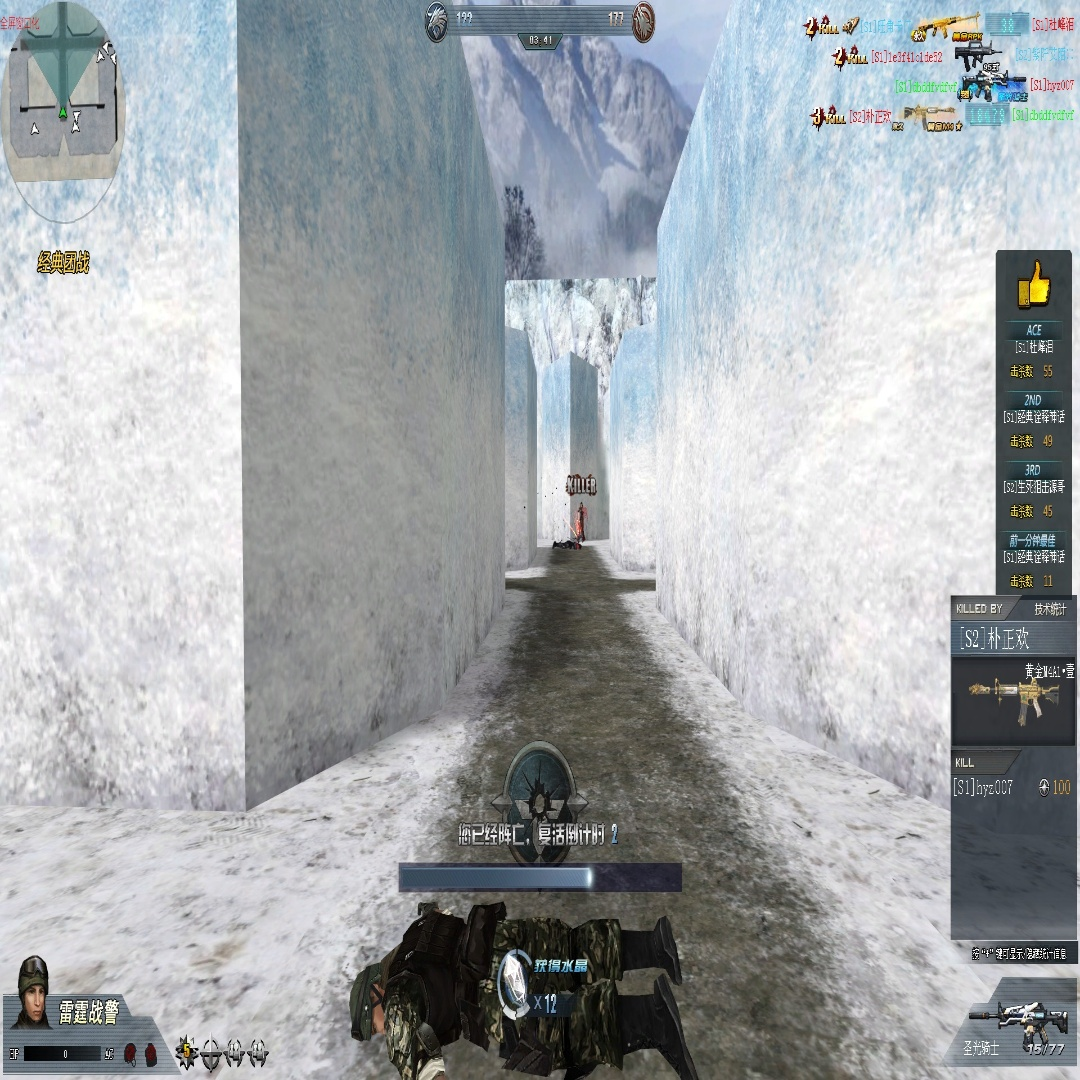t: (578, 502, 586, 541)
